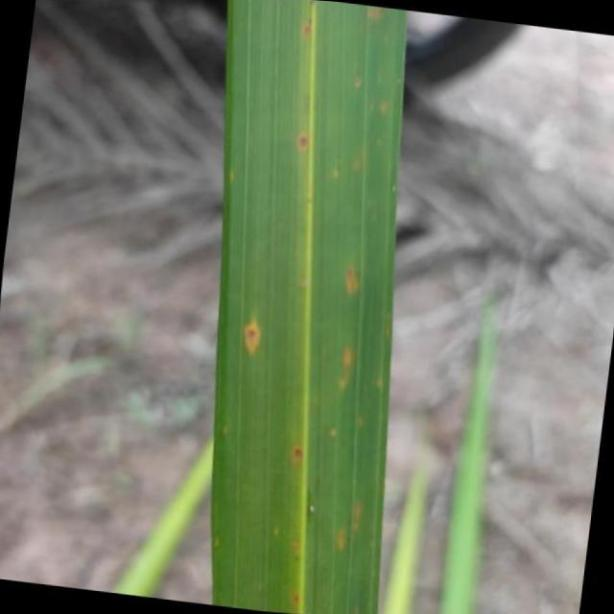Kalium: (209, 1, 404, 614)
